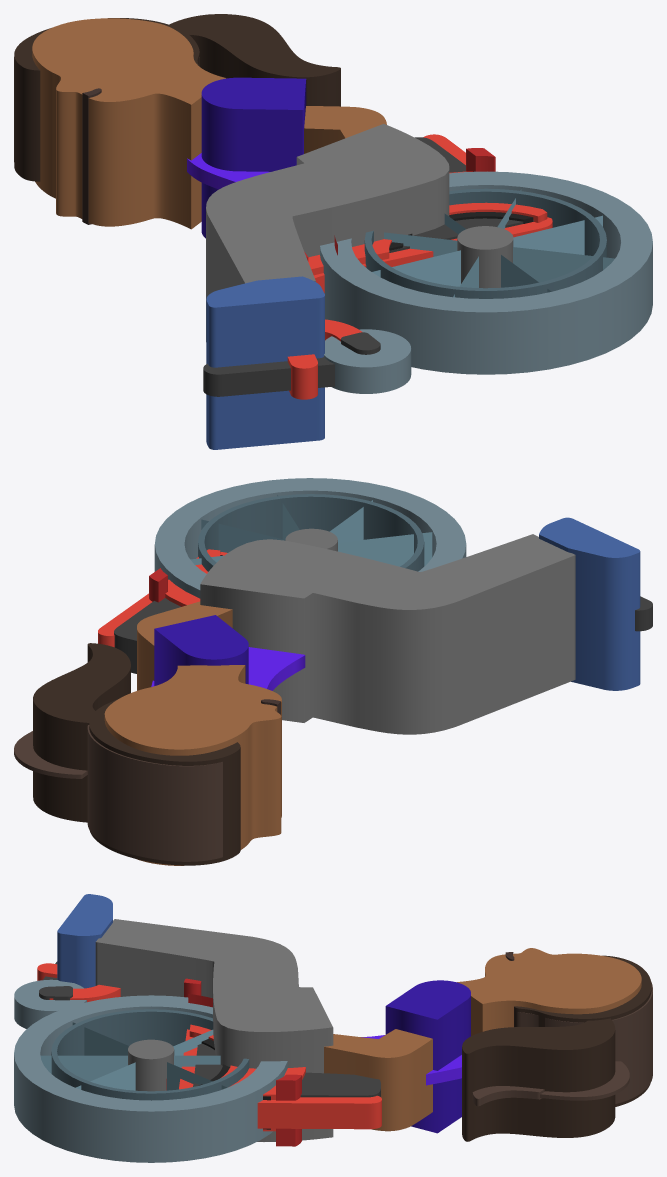
The model's file is emoji_u1f469_1f3fe_200d_1f9bd.glb.
The picture shows the model from 3 angles, top to bottom: view 1: azimuth 30°, elevation 25°; view 2: azimuth 150°, elevation 25°; view 3: azimuth 270°, elevation 25°; orthographic projection. The views are drawn at different scales.
Visible parts, largest first — view 1: emoji_u1f469_1f3fe_200d_1f9bd; view 2: emoji_u1f469_1f3fe_200d_1f9bd; view 3: emoji_u1f469_1f3fe_200d_1f9bd.
Boxes of the visible parts, bbox=[...] form: emoji_u1f469_1f3fe_200d_1f9bd: bbox=[14, 14, 652, 449]; emoji_u1f469_1f3fe_200d_1f9bd: bbox=[14, 478, 652, 865]; emoji_u1f469_1f3fe_200d_1f9bd: bbox=[14, 894, 652, 1162].
Size of the model in its own units: 0.022 by 0.0064 by 0.0316.
